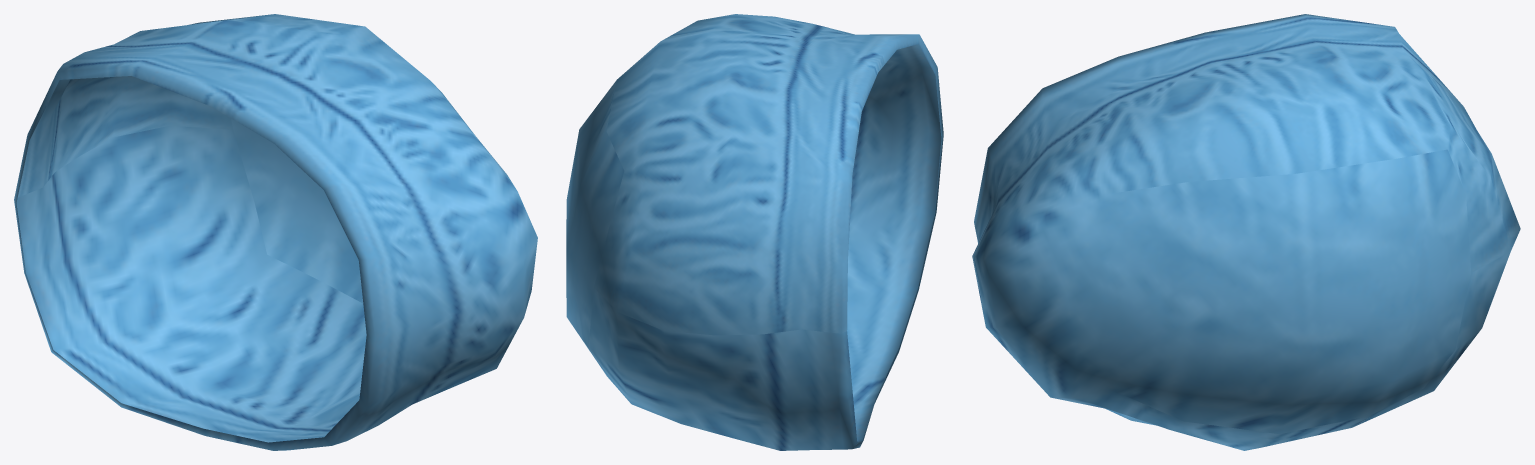
Rendered from M_DentistCapNoBand.fbx.
The picture shows the model from 3 angles, left to right: view 1: azimuth 30°, elevation 25°; view 2: azimuth 150°, elevation 25°; view 3: azimuth 270°, elevation 25°; orthographic projection.
Parts seen in each view (by area): view 1: DentistCap; view 2: DentistCap; view 3: DentistCap.
Part boxes in pixels (x1,y1,x2,y2): DentistCap: (14,14,537,450); DentistCap: (566,14,943,450); DentistCap: (972,14,1520,450).
Bounding box in the file's own units: 0.1148 × 0.1162 × 0.1559.
